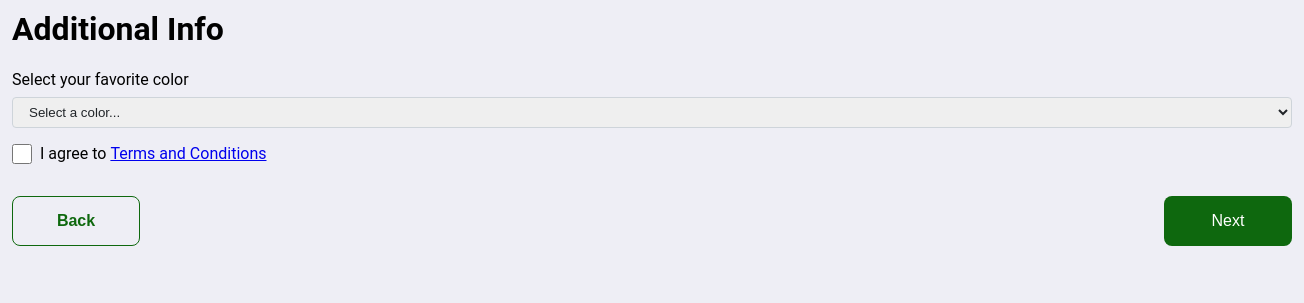
it: SignUpMoreInfoPage › should prevent submit when required fields are not informed
Click the button "Next" at {"x": 1228, "y": 221}, box left=1164, top=196, right=1292, bottom=246
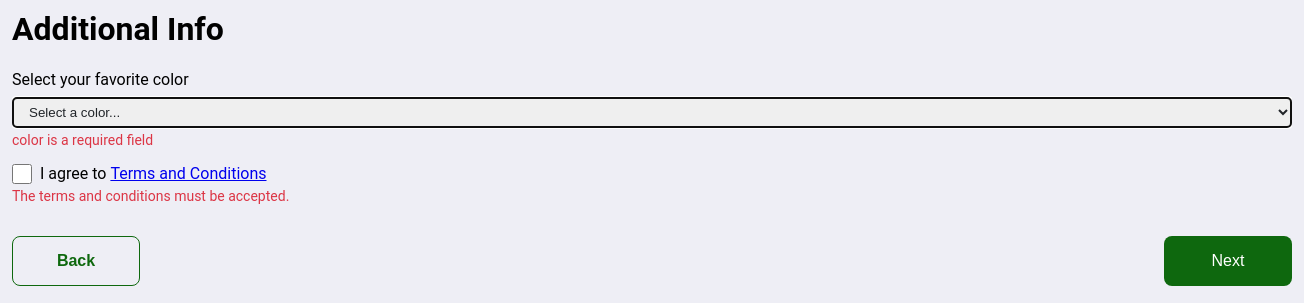
Expected: the text "color is a required field" is shown, left=12, top=132, right=153, bottom=148
Expected: the text "The terms and conditions must be accepted." is shown, left=12, top=188, right=289, bottom=204
